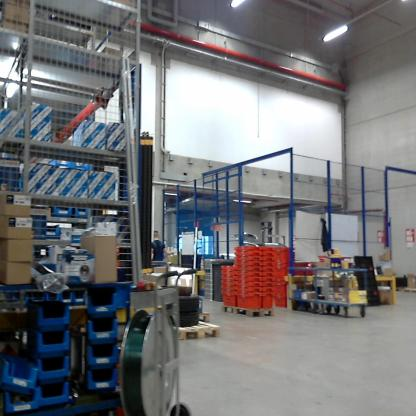pallet: (174, 320, 226, 343), (217, 301, 273, 317), (191, 306, 213, 324), (404, 285, 416, 295), (397, 284, 406, 295)
small_load_carrier: (236, 291, 263, 309), (272, 247, 295, 263), (271, 279, 292, 295), (271, 291, 291, 307), (222, 290, 236, 309), (259, 292, 275, 308), (270, 265, 289, 277)
